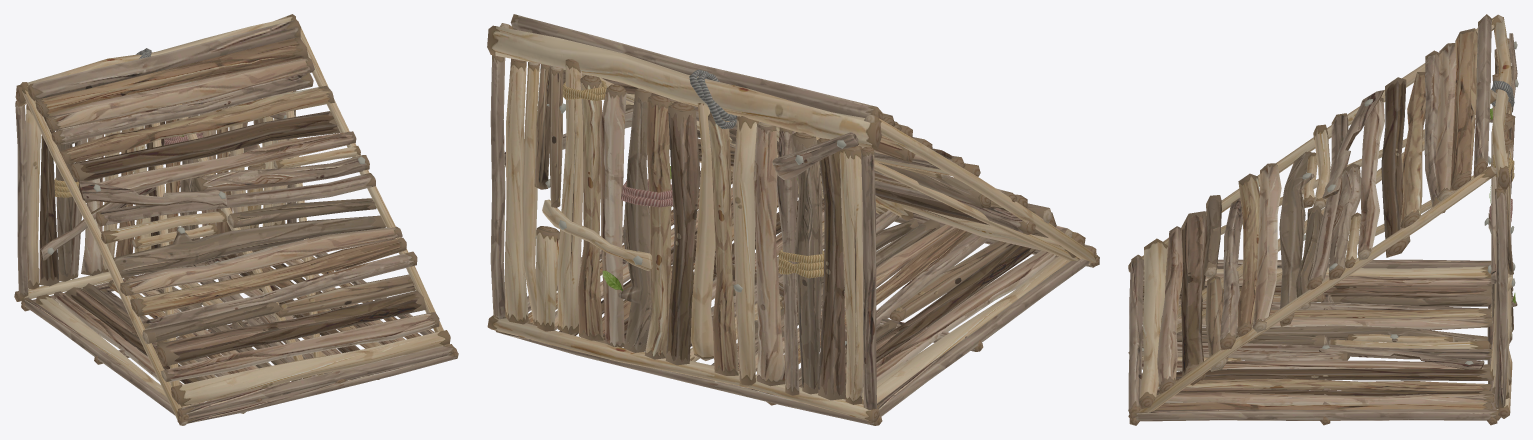
File: fortnite.glb
The picture shows the model from 3 angles, left to right: view 1: azimuth 30°, elevation 25°; view 2: azimuth 150°, elevation 25°; view 3: azimuth 270°, elevation 25°; orthographic projection. The views are drawn at different scales.
Visible parts, largest first — view 1: ramp, wall, floor; view 2: wall, floor, ramp; view 3: ramp, floor, wall.
Boxes of the visible parts, x1,y1,x2,y2 form: ramp: [19, 19, 454, 425]; wall: [14, 14, 296, 301]; floor: [21, 246, 458, 423]; wall: [487, 25, 881, 422]; floor: [496, 170, 1098, 425]; ramp: [499, 14, 1099, 266]; ramp: [1128, 14, 1503, 414]; floor: [1128, 259, 1500, 425]; wall: [1484, 17, 1518, 418].
Size of the model in its own units: 3.94 by 3.13 by 4.15.
Materials: 3 (3 with a texture image).
